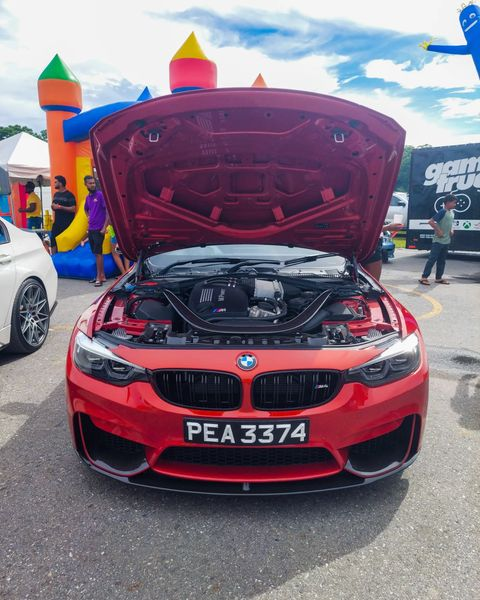License-Plate: (183, 418, 307, 442)
